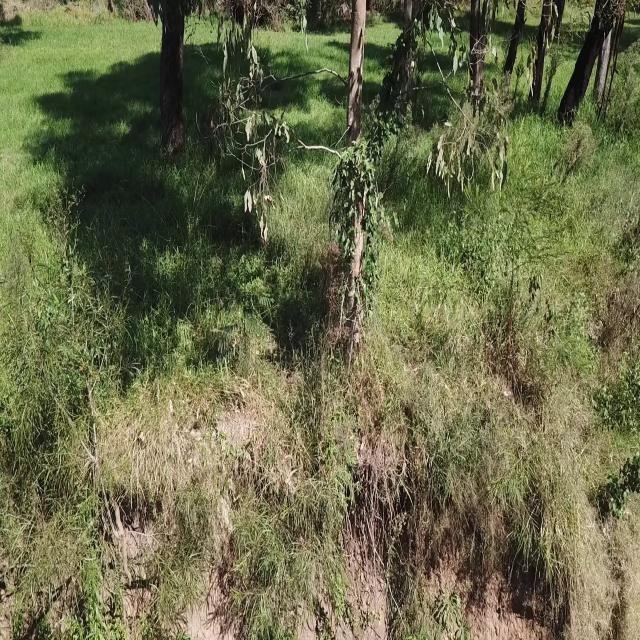Mysore-Thorn-Weed: (217, 262, 276, 358)
